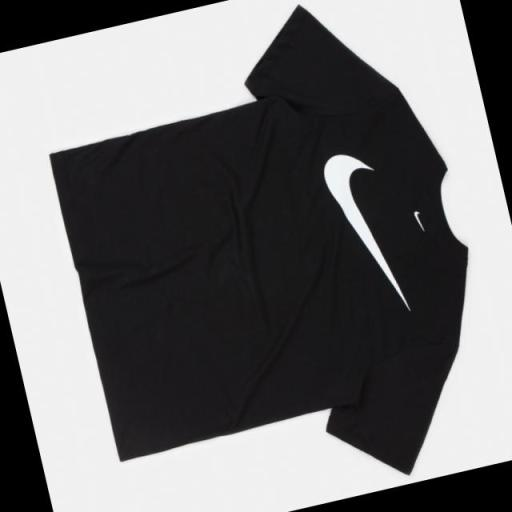Nike: (312, 141, 414, 326)
